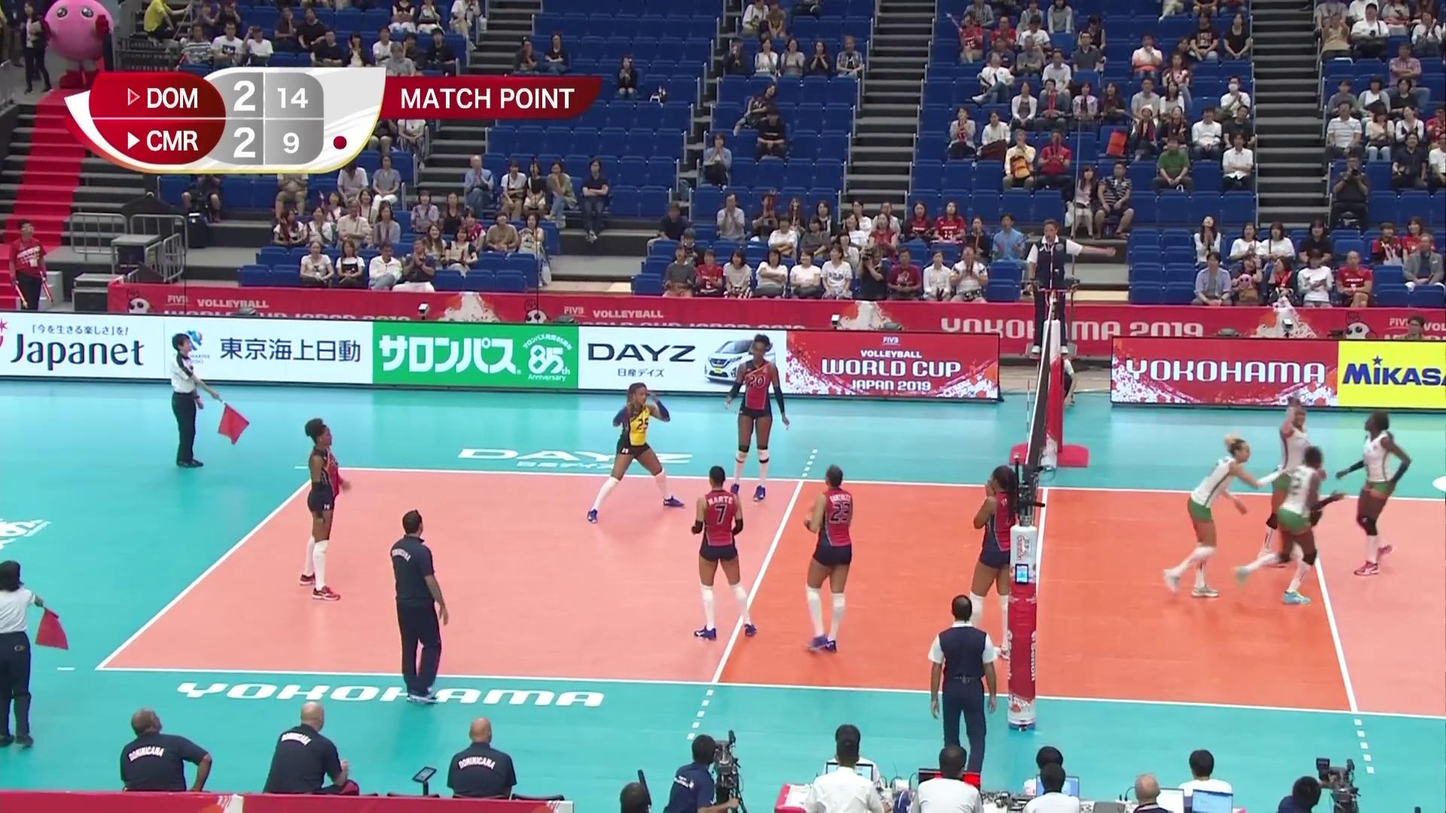player: (1161, 437, 1258, 601), (1236, 446, 1333, 604), (1335, 411, 1414, 579), (960, 466, 1025, 666), (587, 379, 678, 519), (795, 465, 863, 652), (690, 467, 758, 643), (725, 334, 789, 500), (1260, 398, 1320, 567), (298, 421, 353, 601)
refree: (931, 596, 998, 792), (0, 560, 66, 750), (169, 333, 225, 468), (1033, 221, 1075, 356)
